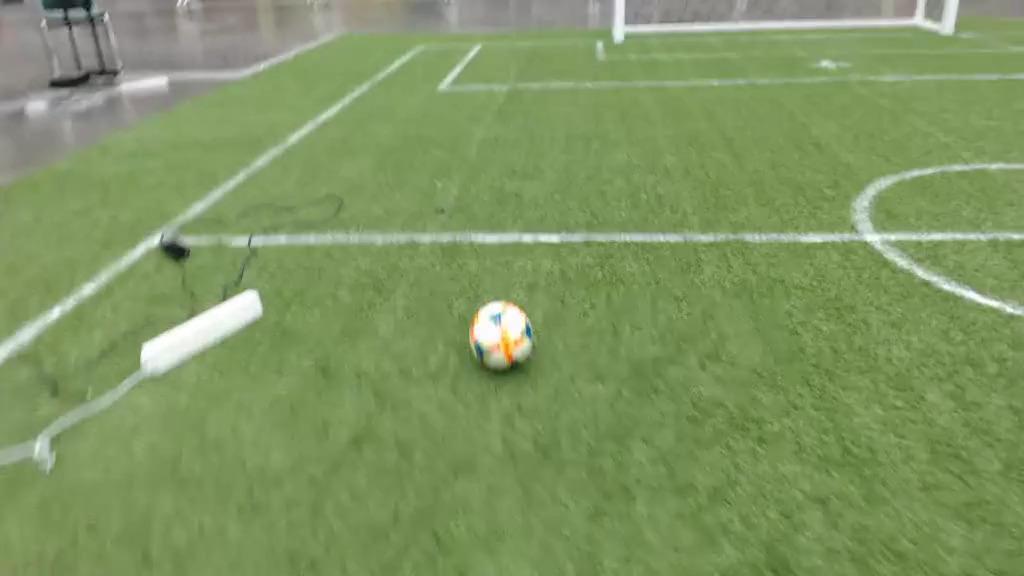ball: (469, 302, 534, 372)
